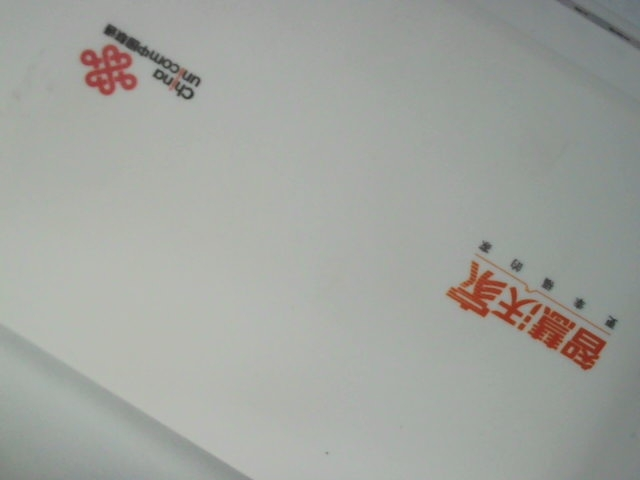AC_ChinaUnicom: (72, 12, 211, 118)
